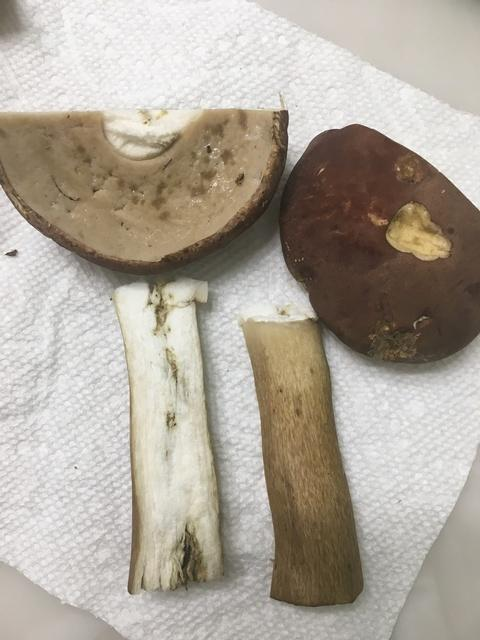Non-edible Mushroom: (105, 276, 256, 621), (0, 96, 289, 275), (278, 122, 479, 365), (236, 300, 364, 607)
